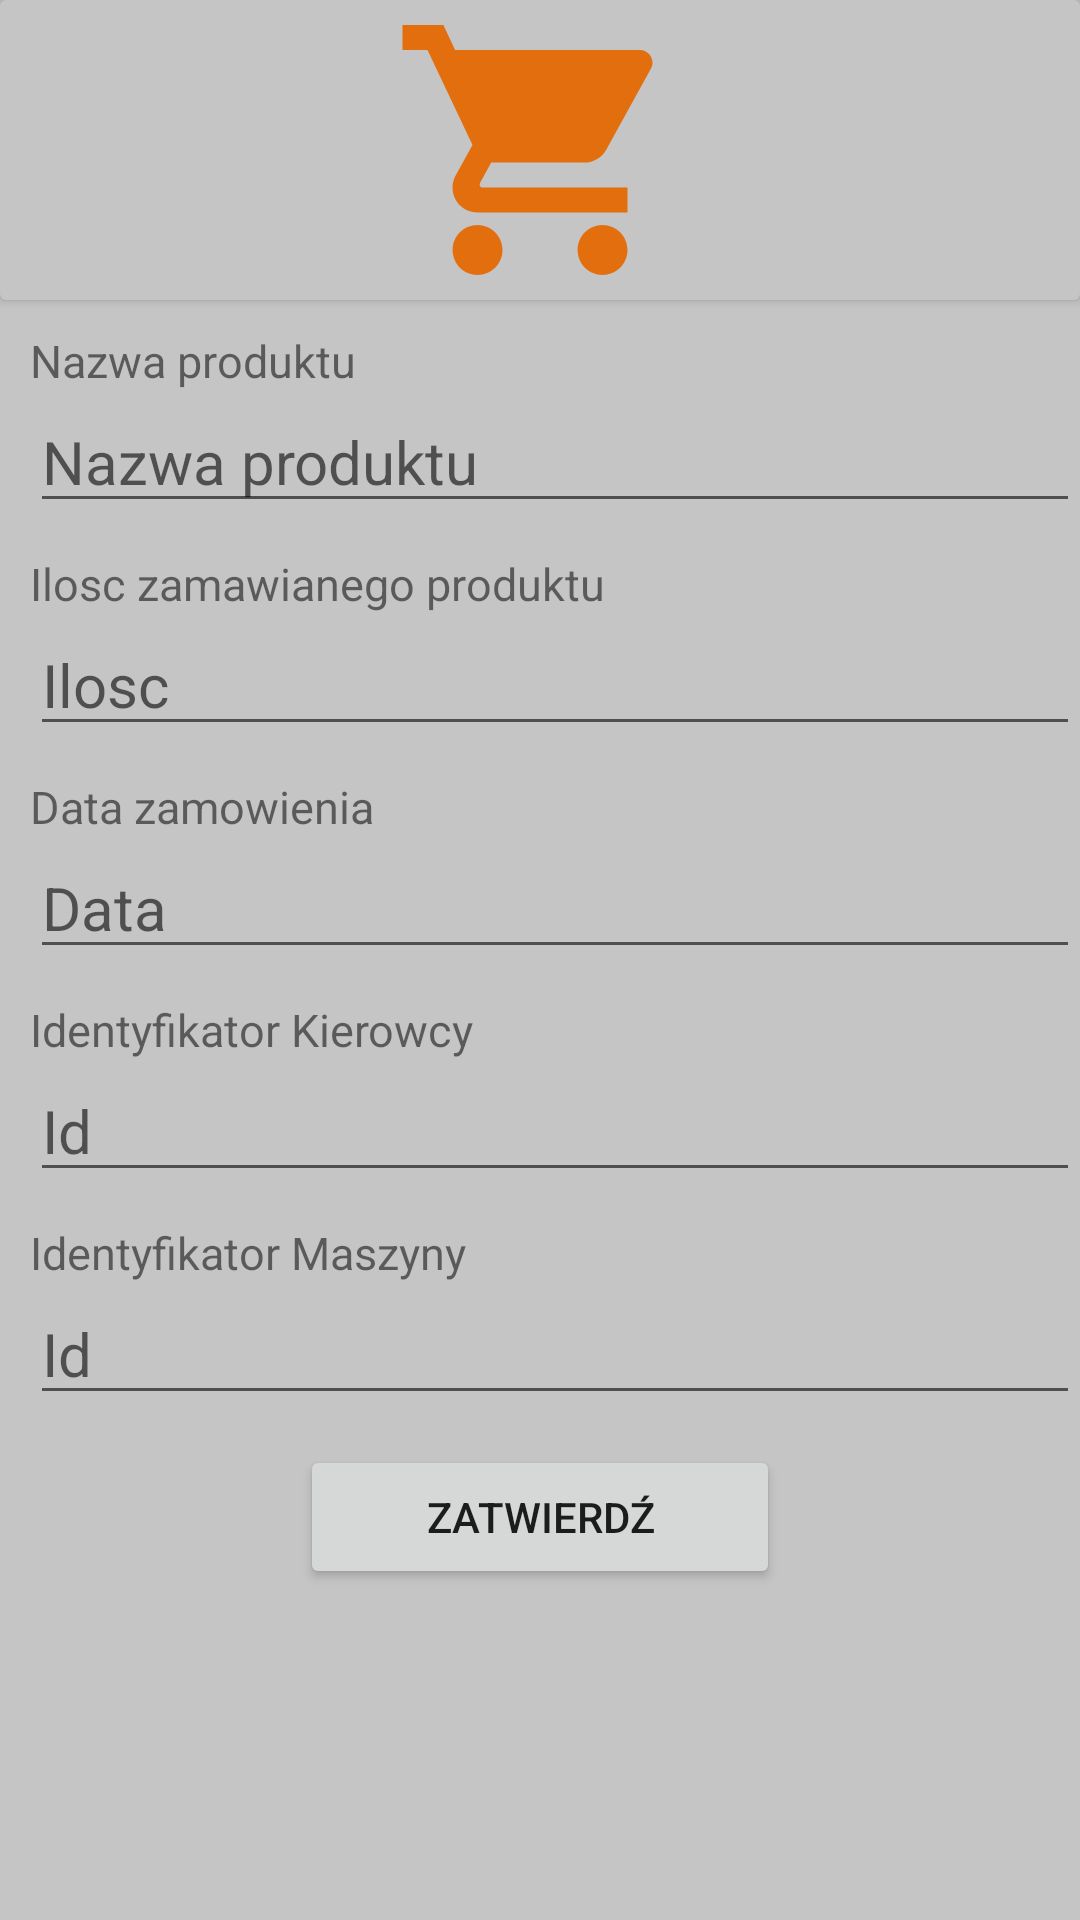

Where icons sit on this 1080x1920 app screen, as (x1, y1, x2, y2):
zamawianie: (402, 25, 653, 275)
